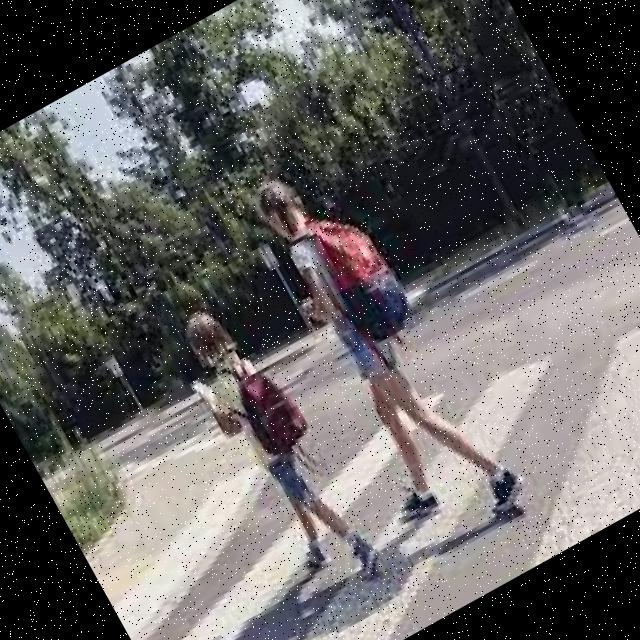Person: (227, 143, 530, 557), (163, 291, 392, 608)
